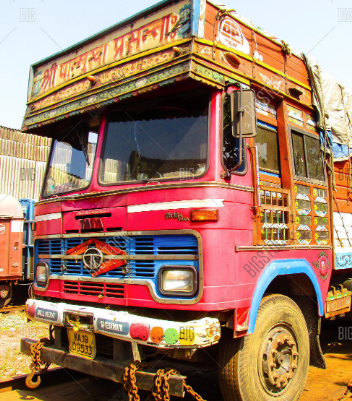truck: (15, 1, 351, 397)
